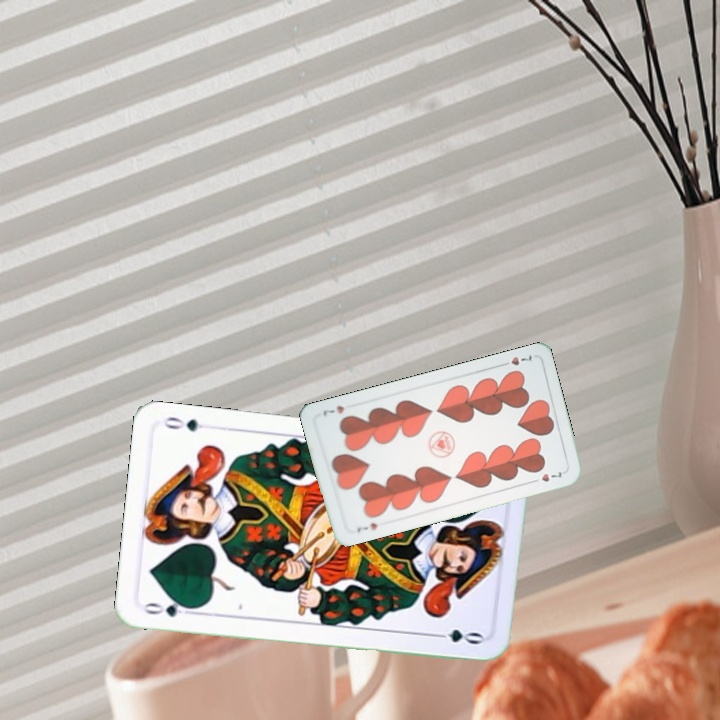GO: (139, 596, 198, 620)
H7: (496, 350, 535, 369), (353, 519, 380, 535)
